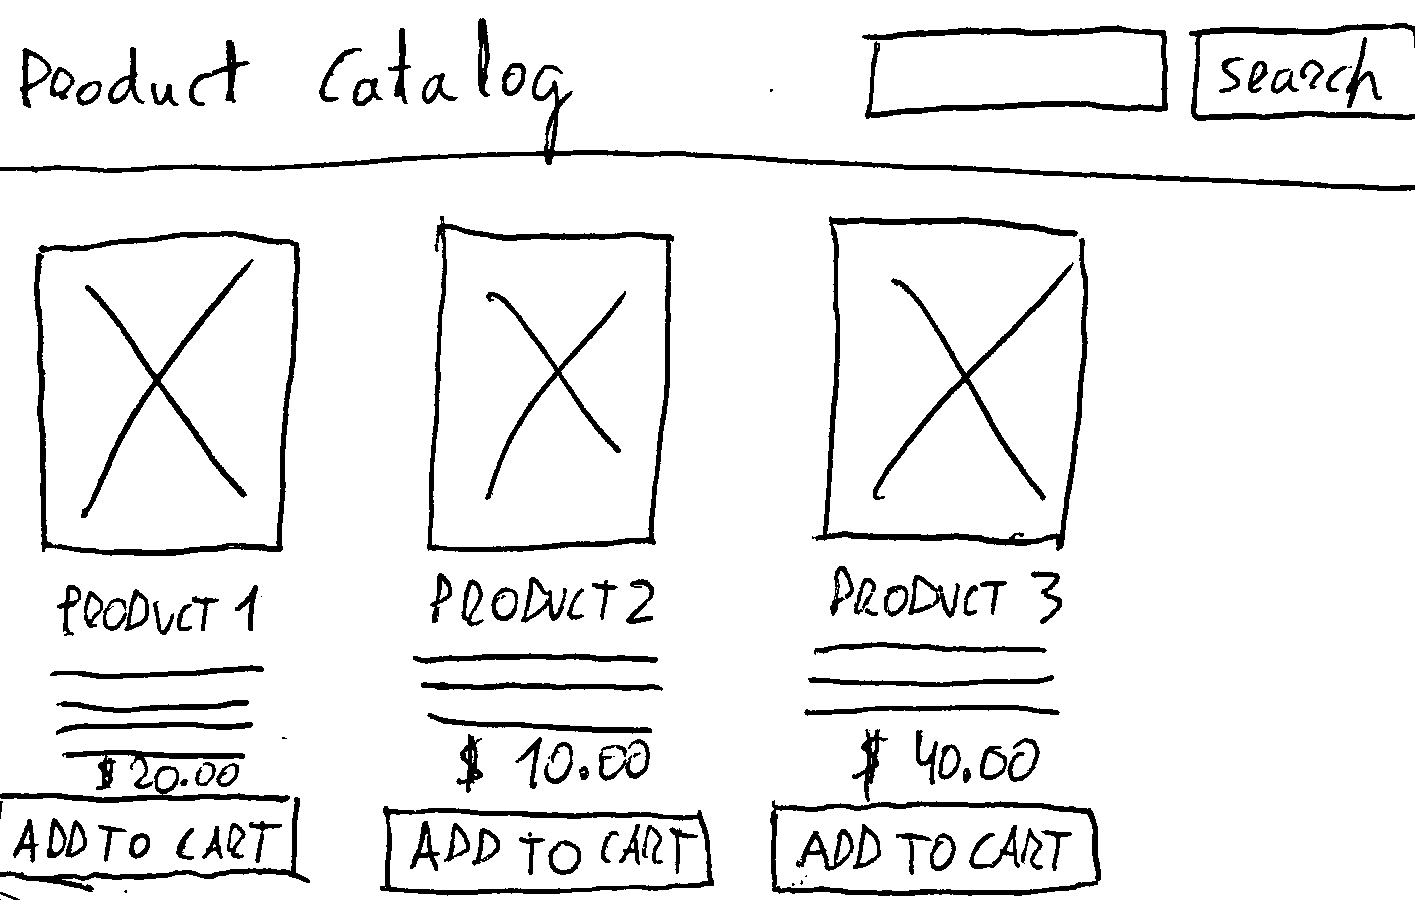Button: (762, 796, 1105, 898), (379, 803, 726, 896), (1, 789, 308, 891), (1186, 19, 1415, 129)
Image: (26, 226, 307, 563), (819, 212, 1091, 553), (424, 213, 677, 557)
Paragraph: (412, 641, 660, 741), (800, 636, 1070, 724), (46, 655, 269, 758)
Textbox: (860, 22, 1176, 120)
